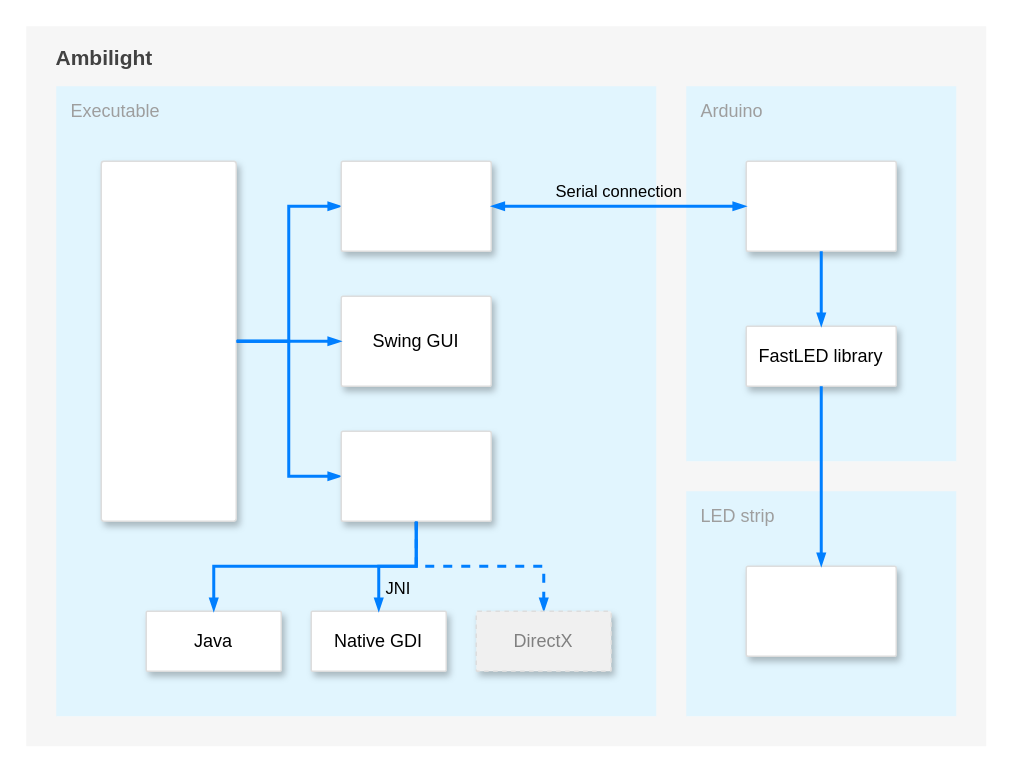
Image size: 1011x771. Some labels were removed from this diagram. Each missing label, with the centre of its shape:
"Ambilight implementation" belongs at (x=417, y=478).
"Arduino serial client" belongs at (x=822, y=208).
"Java app" belongs at (x=169, y=343).
"Java serial client" belongs at (x=417, y=208).
"LEDs" belongs at (x=822, y=613).
